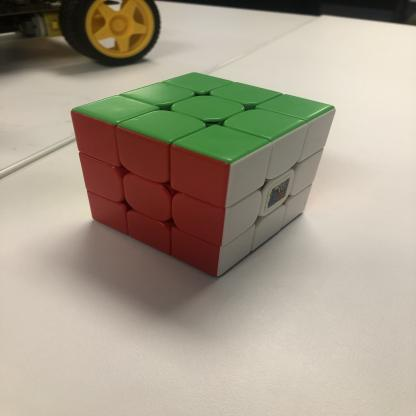SolvedCube: (64, 50, 344, 288)
